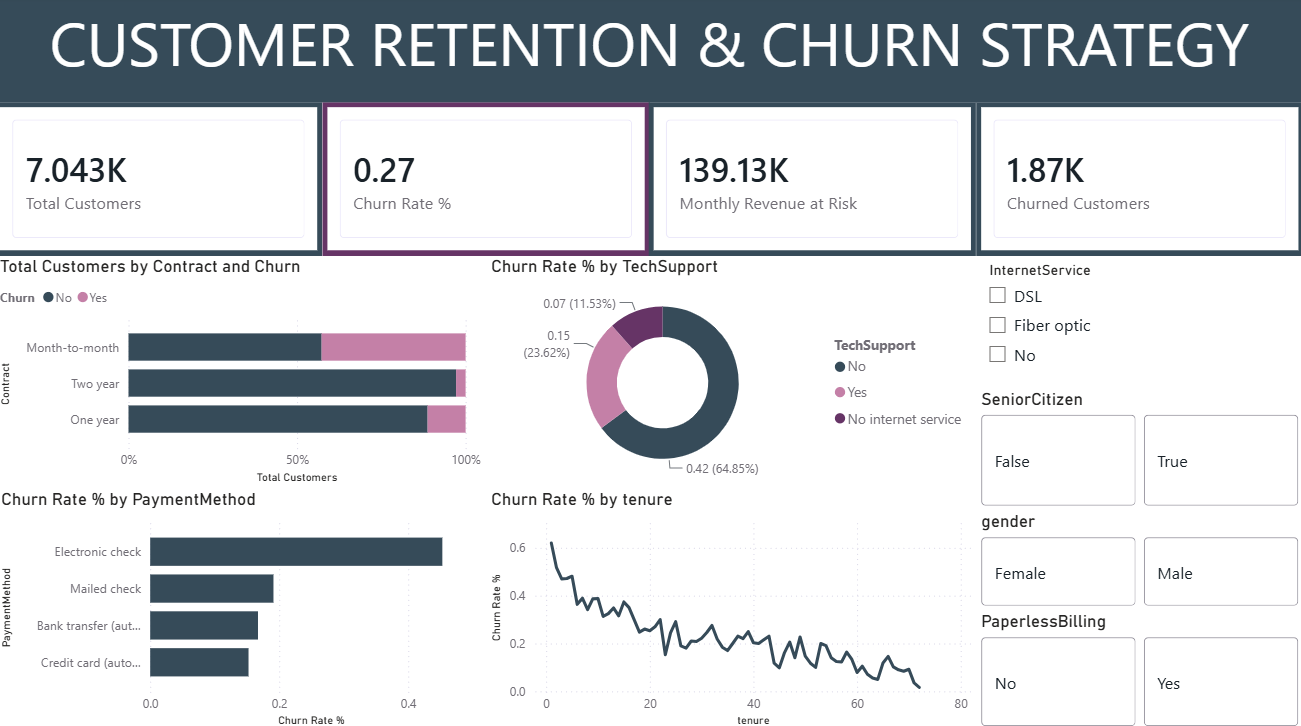

This screenshot's page, from the dashboard's own definition file:
{"tool":"powerbi","page":{"name":"Page 1","canvas":[1280,720],"ordinal":0},"visuals":[{"type":"cardVisual","fields":{"Data":["Clean Data.Total Customers"]},"box":[0,103.9,320,150],"z":0},{"type":"cardVisual","fields":{"Data":["Clean Data.Churn Rate %"]},"box":[320.4,103.9,320,150],"z":1},{"type":"cardVisual","fields":{"Data":["Clean Data.Monthly Revenue at Risk"]},"box":[639.5,103.9,320,150],"z":2},{"type":"cardVisual","fields":{"Data":["Clean Data.Churned Customers"]},"box":[959.9,103.9,320,150],"z":3},{"type":"hundredPercentStackedBarChart","fields":{"Category":["Clean Data.Contract"],"Series":["Clean Data.Churn"],"Y":["Clean Data.Total Customers"]},"box":[0,254.3,480.6,227.4],"z":4},{"type":"lineChart","fields":{"Category":["Clean Data.tenure"],"Y":["Clean Data.Churn Rate %"]},"box":[480.6,481.8,479.4,238.5],"z":5},{"type":"donutChart","fields":{"Category":["Clean Data.TechSupport"],"Y":["Clean Data.Churn Rate %"]},"box":[480.6,254.3,479.4,227.4],"z":6},{"type":"textbox","box":[0,0,1280.3,103.9],"z":7},{"type":"clusteredBarChart","fields":{"Category":["Clean Data.PaymentMethod"],"Y":["Clean Data.Churn Rate %"]},"box":[1.2,481.8,479.4,238.5],"z":8},{"type":"slicer","fields":{"Values":["Clean Data.InternetService"]},"box":[960,254,320,227],"z":9},{"type":"advancedSlicerVisual","fields":{"Values":["Clean Data.SeniorCitizen"]},"box":[959.9,384,320.4,119.8],"z":10},{"type":"advancedSlicerVisual","fields":{"Values":["Clean Data.gender"]},"box":[959.9,503.8,320.4,97.8],"z":11},{"type":"advancedSlicerVisual","fields":{"Values":["Clean Data.PaperlessBilling"]},"box":[959.9,601.6,320.4,118.6],"z":12}]}

Visuals, with their boxes in screenshot pixels (x1, y1, x2, y2), scaled from the page's 1280x720 canvas onto the 1301x726 screenshot:
cardVisual - Clean Data.Total Customers: [0, 105, 325, 256]
cardVisual - Clean Data.Churn Rate %: [326, 105, 651, 256]
cardVisual - Clean Data.Monthly Revenue at Risk: [650, 105, 975, 256]
cardVisual - Clean Data.Churned Customers: [976, 105, 1300, 256]
hundredPercentStackedBarChart - Clean Data.Contract x Clean Data.Churn: [0, 256, 488, 486]
lineChart - Clean Data.tenure x Clean Data.Churn Rate %: [488, 486, 976, 725]
donutChart - Clean Data.TechSupport x Clean Data.Churn Rate %: [488, 256, 976, 486]
textbox: [0, 0, 1300, 105]
clusteredBarChart - Clean Data.PaymentMethod x Clean Data.Churn Rate %: [1, 486, 488, 725]
slicer - Clean Data.InternetService: [976, 256, 1300, 485]
advancedSlicerVisual - Clean Data.SeniorCitizen: [976, 387, 1300, 508]
advancedSlicerVisual - Clean Data.gender: [976, 508, 1300, 607]
advancedSlicerVisual - Clean Data.PaperlessBilling: [976, 607, 1300, 725]
